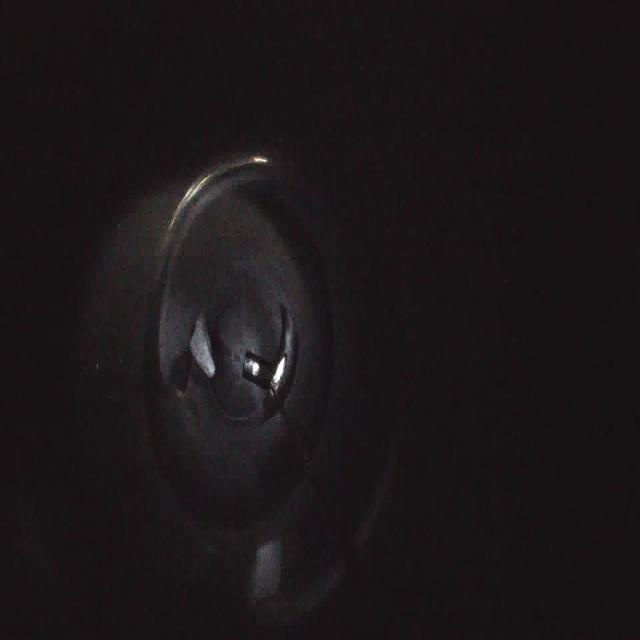impurity: (184, 308, 221, 384)
